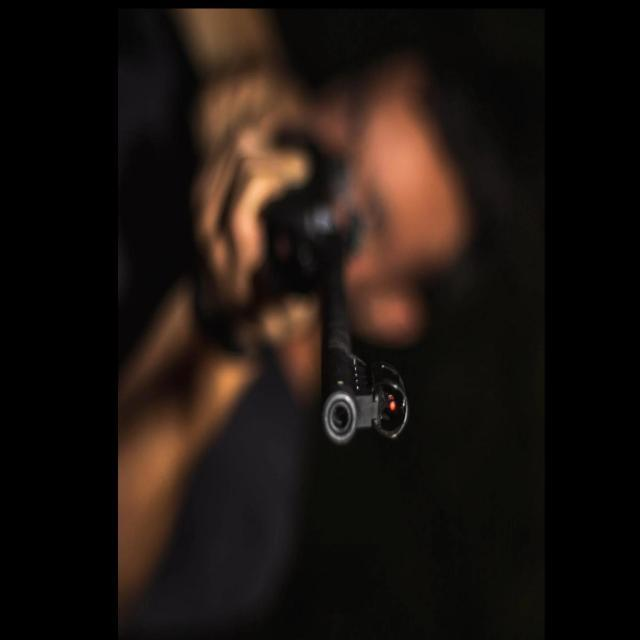weapon: (260, 124, 412, 451)
